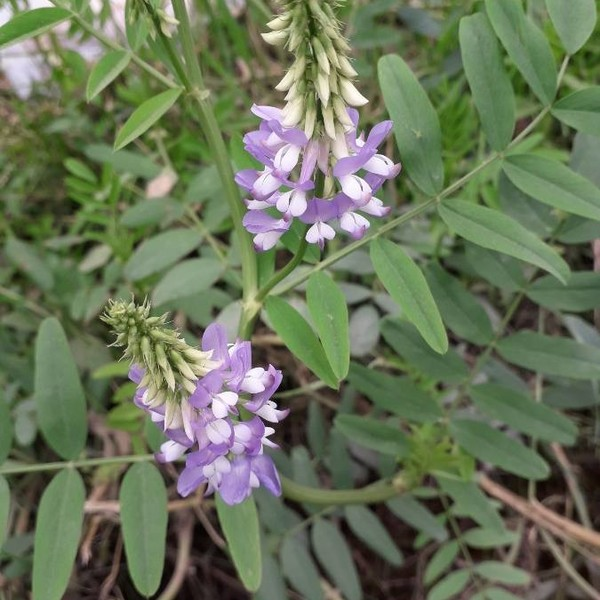obstacle: (101, 48, 531, 541)
